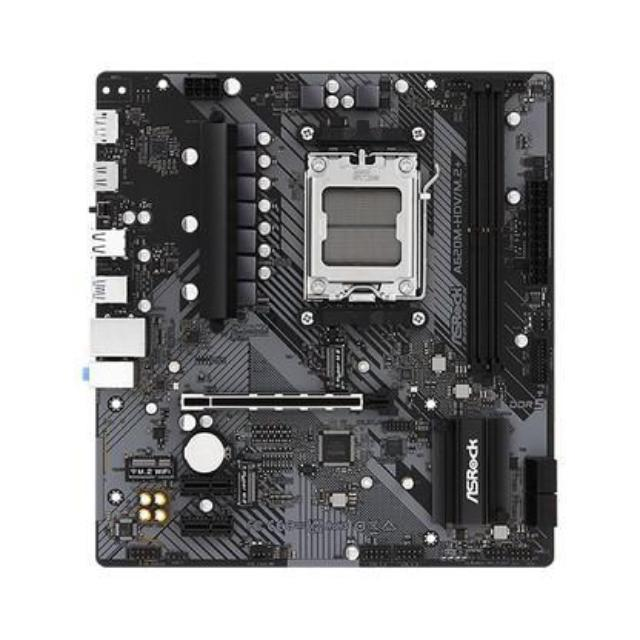Mainboard: (93, 68, 553, 570)
